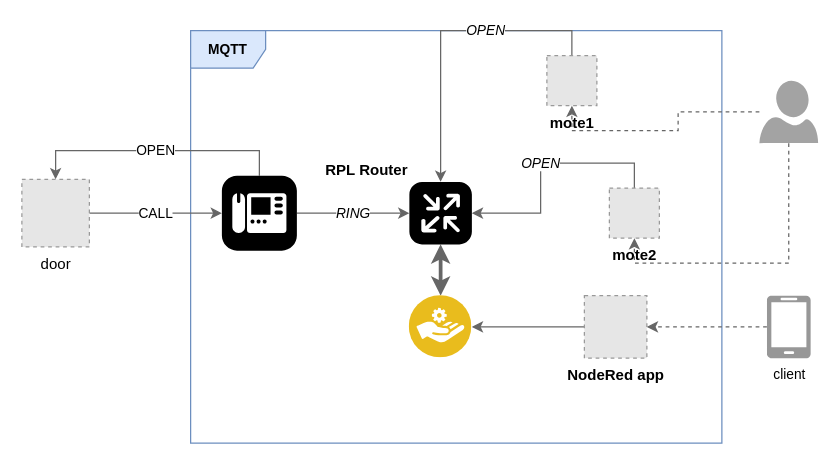
Some shapes in this 840 by 465 pixel diagram are drawn without their labels. Grey dashed boxes stand in for pictures. The shapes that lost their labels are listed below. From the top down, each one's box as (x1, y1, x2, y2) in pixels, then its label:
(759, 80, 818, 142): user
(221, 174, 297, 251): interphone node
(409, 295, 471, 358): MQTT Broker
